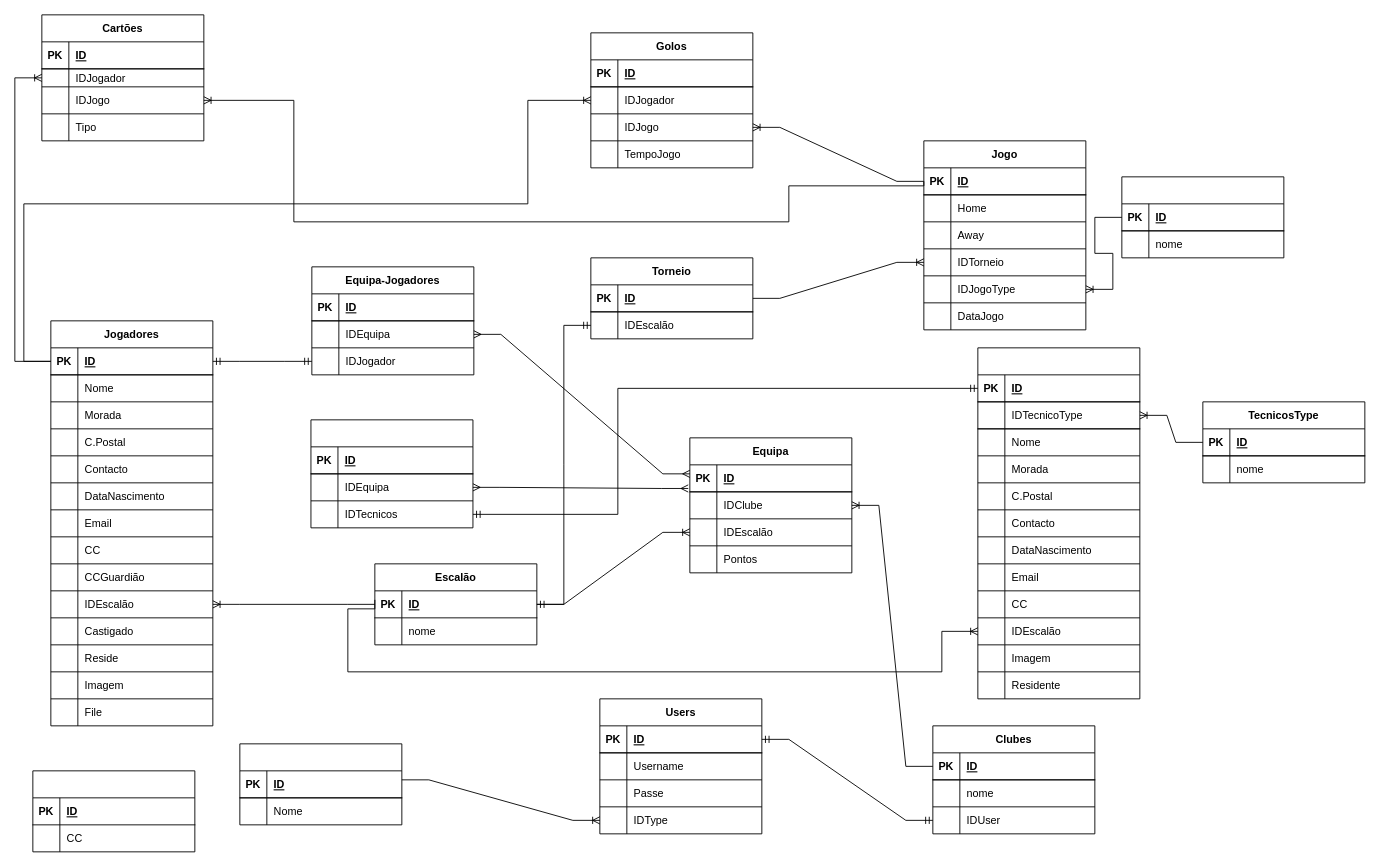
The diagram is 1380 pixels wide and 867 high, and some of its shapes have lost their labels. The shapes that lost their labels are listed below. From the top down, each one's box as (x1, y1, x2, y2) in pixels, then its label:
(1121, 176, 1284, 258): JogoType
(310, 419, 473, 528): Equipa-Tecnicos
(977, 347, 1140, 699): Tecnicos
(239, 743, 402, 825): Users Type
(32, 770, 195, 852): Caderno Eleitoral
